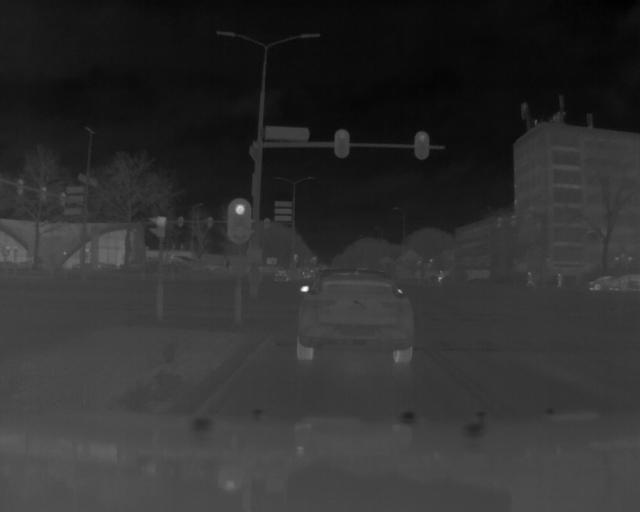car: (290, 263, 415, 364), (587, 275, 618, 291)
person: (525, 267, 537, 293), (432, 267, 446, 288), (554, 269, 563, 292)
